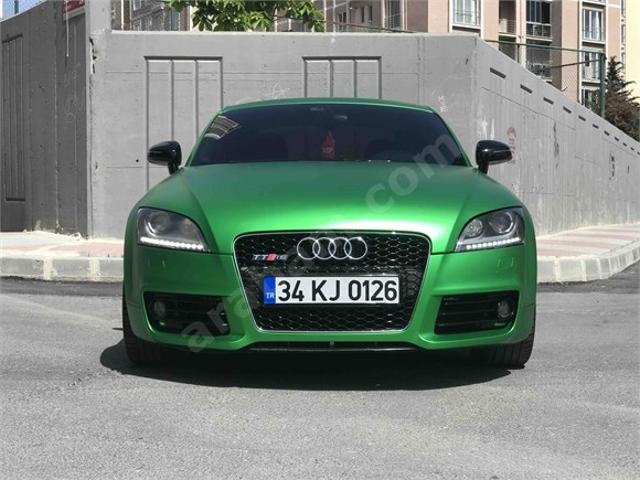audi: (291, 232, 370, 261)
